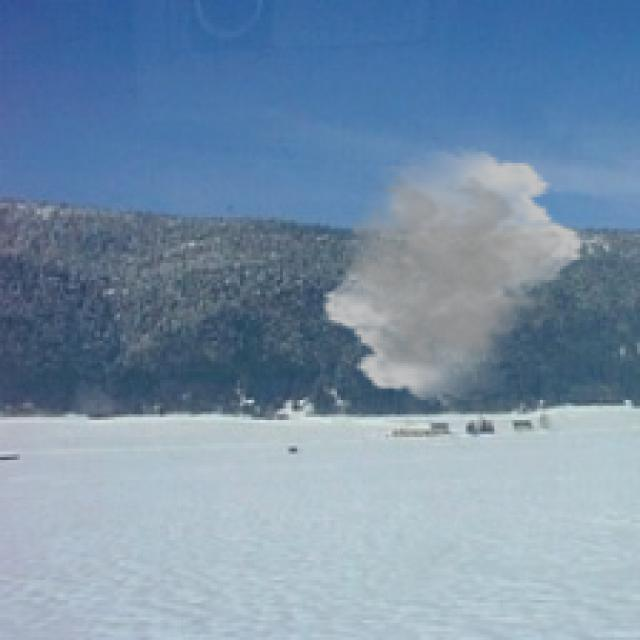smoke: (320, 146, 586, 406)
